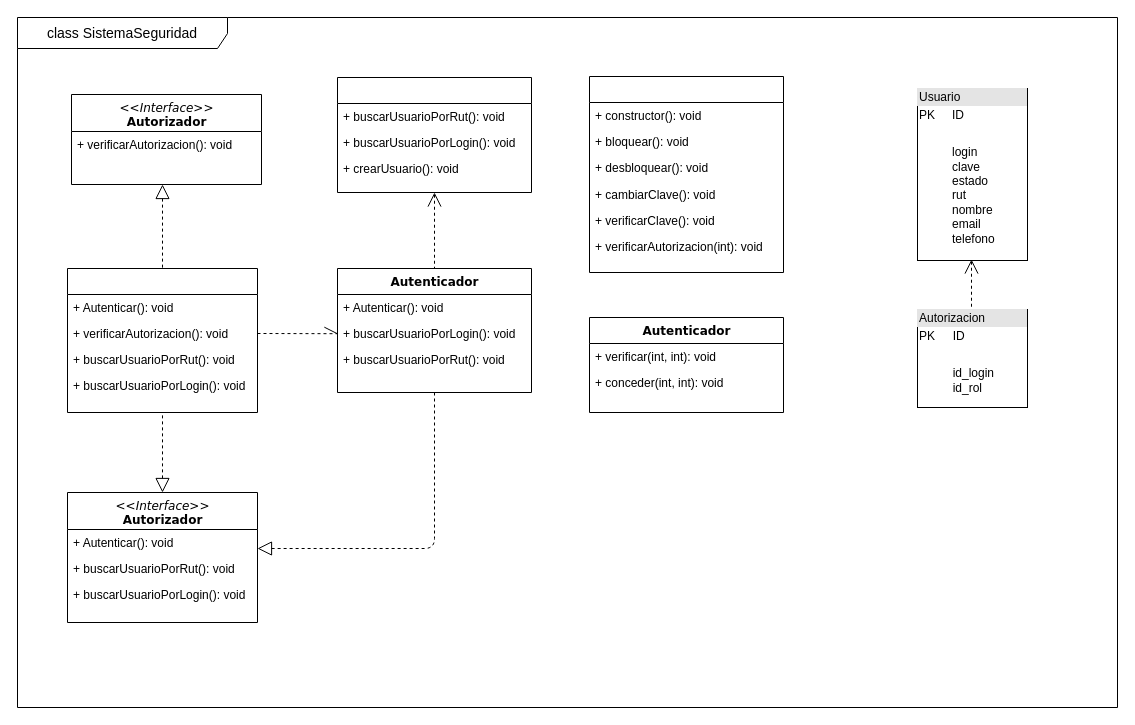
Image size: 1135x725. Some labels were removed from this diagram. The shapes that lost their labels are listed below. From the top down, each one's box as (x1, y1, x2, y2) in pixels, then its label:
(336, 76, 532, 192): UsuarioFactory
(588, 76, 784, 272): Usuario
(66, 268, 258, 412): SistemaSeguridad
